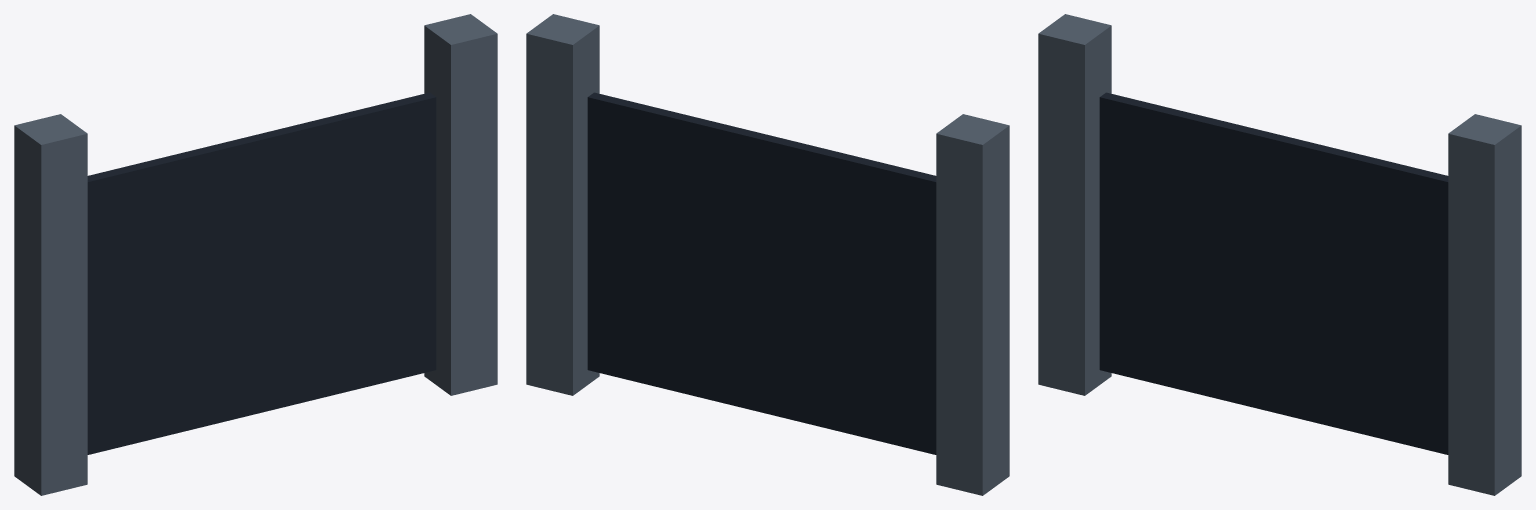
Rendered from iron_gate.glb.
The picture shows the model from 3 angles, left to right: view 1: azimuth 30°, elevation 25°; view 2: azimuth 150°, elevation 25°; view 3: azimuth 330°, elevation 25°; orthographic projection.
Bounding box in the file's own units: 2.45 × 1.8 × 0.25.
